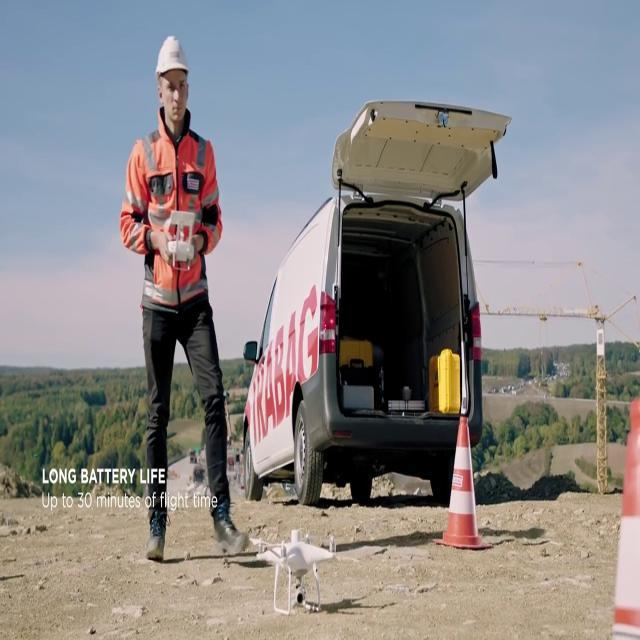drone: (247, 526, 338, 615)
